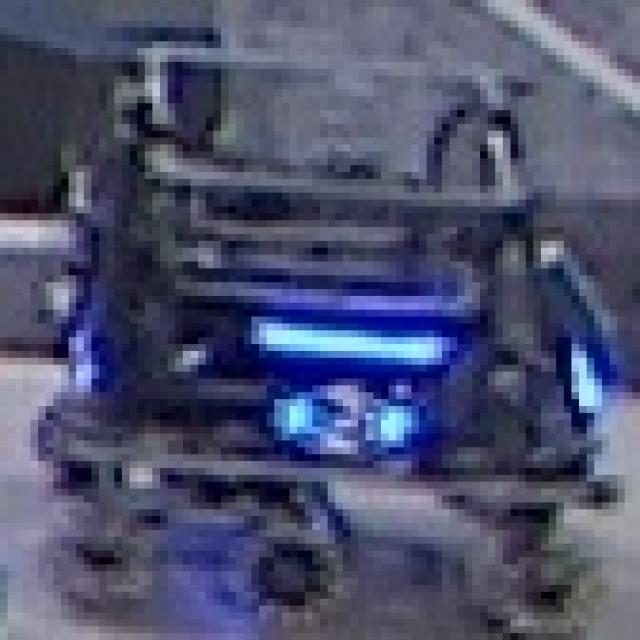B2: (266, 365, 426, 475)
